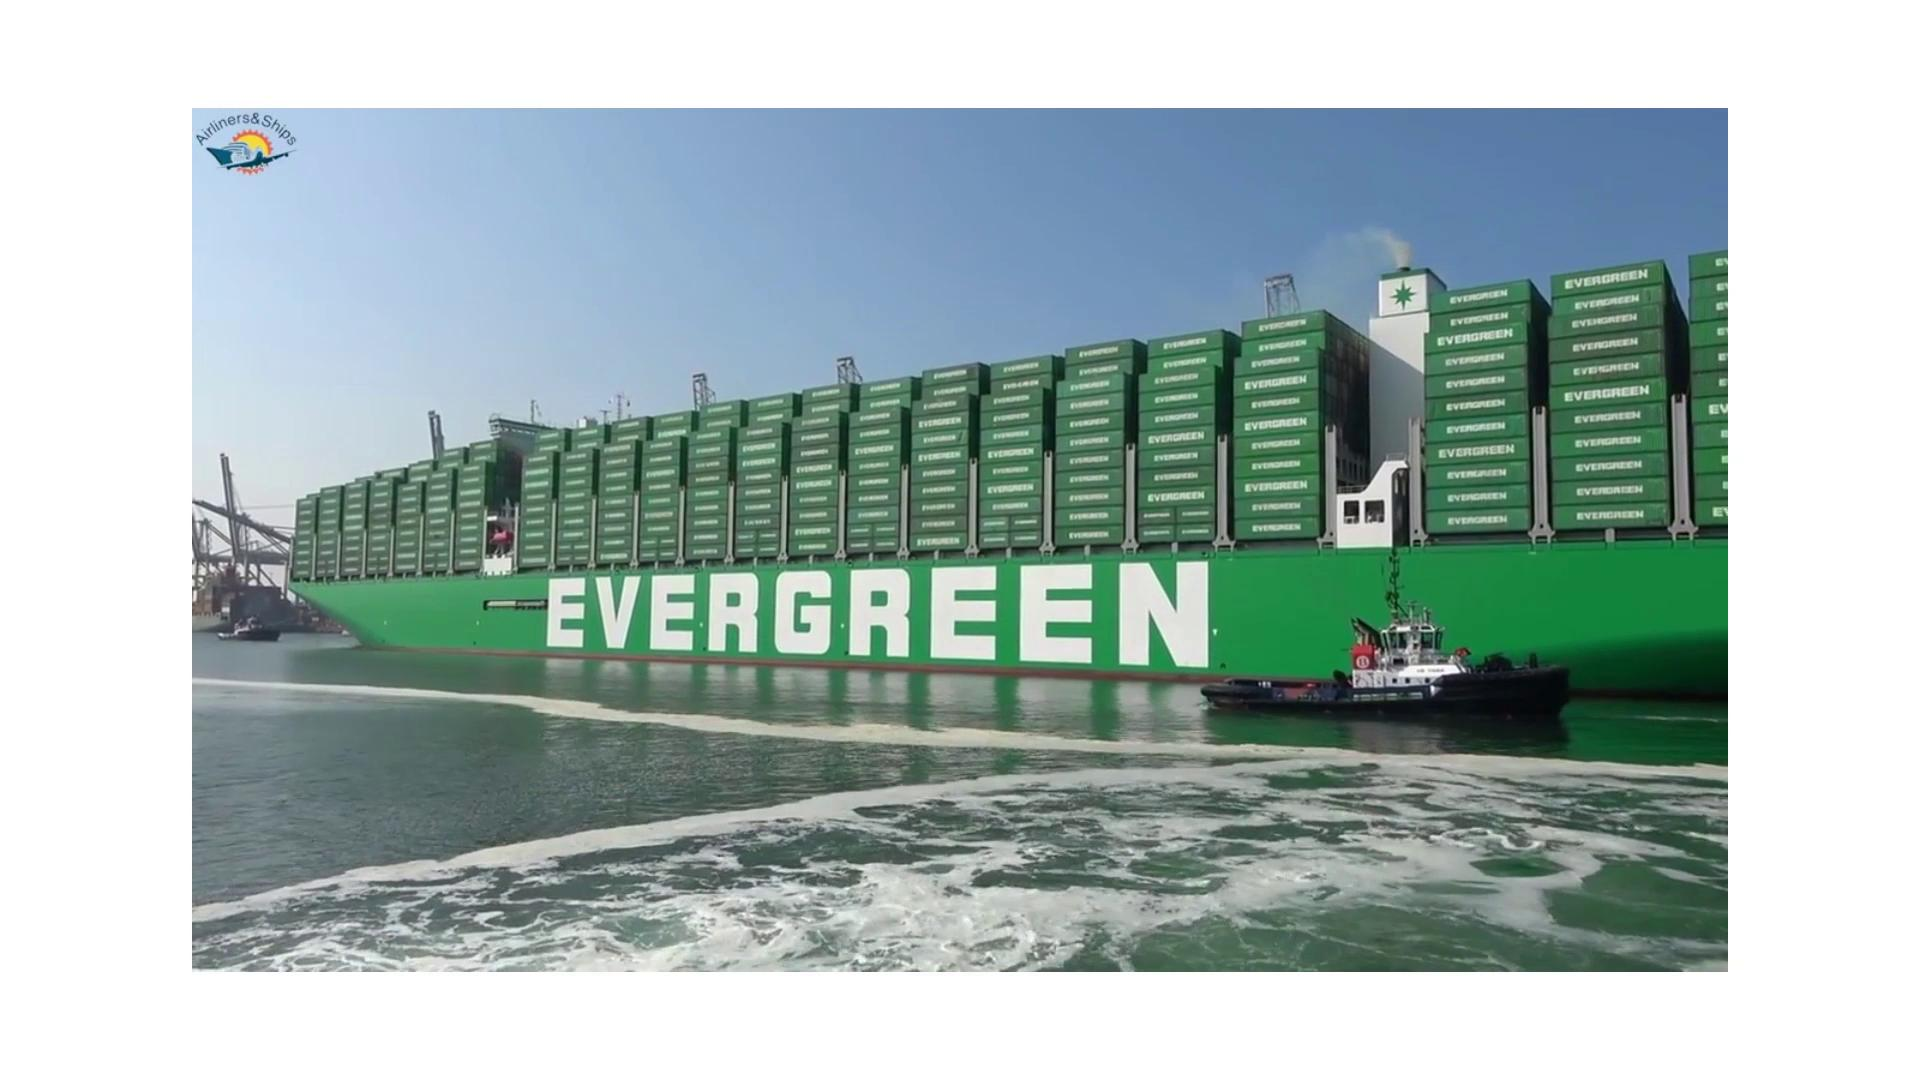OCR: (513, 551, 1233, 686)
